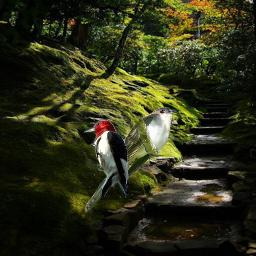Cuckoo: (83, 106, 180, 215)
Woodpecker: (83, 120, 129, 198)
